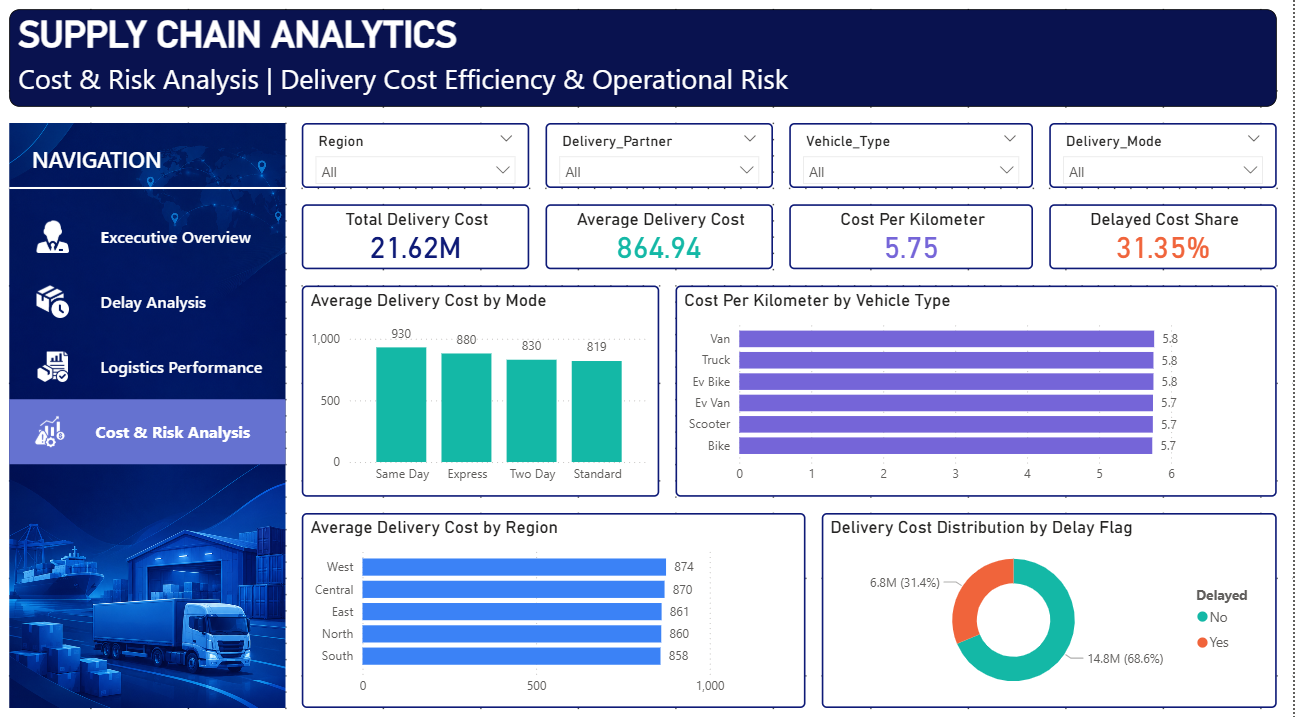

What the dashboard file says about the page in this screenshot:
{"tool":"powerbi","page":{"name":"04. Cost & Risk Analysis","canvas":[1280,720],"ordinal":3},"visuals":[{"type":"textbox","title":"SUPPLY CHAIN ANALYTICS","box":[16,16,1248,96],"z":0},{"type":"image","box":[16,128,272,576],"z":0,"group":"g5"},{"type":"actionButton","title":"Button Excecutive","box":[16,208,272,48],"z":0,"group":"g1"},{"type":"actionButton","title":"Button Delay","box":[16,272,272,48],"z":0,"group":"g2"},{"type":"actionButton","title":"Button Logistics","box":[16,336,272,48],"z":0,"group":"g3"},{"type":"actionButton","title":"Button Cost & Risk","box":[16,400,272,64],"z":0,"group":"g4"},{"type":"slicer","title":"Slicer Region","fields":{"Values":["Cleaned_Delivery_Data.Region"]},"box":[304,128,224,64],"z":1000},{"type":"textbox","box":[33,144,153,48],"z":1000,"group":"g5"},{"type":"image","box":[33,224,51,32],"z":1000,"group":"g1"},{"type":"image","box":[33,288,51,32],"z":1000,"group":"g2"},{"type":"image","box":[33,352,51,32],"z":1000,"group":"g3"},{"type":"image","box":[32,416,48,32],"z":1000,"group":"g4"},{"type":"slicer","title":"Slicer Delivery Partner","fields":{"Values":["Cleaned_Delivery_Data.Delivery_Partner"]},"box":[544,128,224,64],"z":2000},{"type":"shape","box":[16,176,272,32],"z":2000,"group":"g5"},{"type":"textbox","box":[101,224,187,32],"z":2000,"group":"g1"},{"type":"textbox","box":[101,288,187,32],"z":2000,"group":"g2"},{"type":"textbox","box":[101,352,187,32],"z":2000,"group":"g3"},{"type":"textbox","box":[96,416,192,48],"z":2000,"group":"g4"},{"type":"slicer","title":"Slicer Vehicle Type","fields":{"Values":["Cleaned_Delivery_Data.Vehicle_Type"]},"box":[784,128,240,64],"z":3000},{"type":"group","id":"g1","title":"Excecutive Group","box":[16,208,272,48],"z":3000,"group":"g5"},{"type":"slicer","title":"Slicer Delivery Mode","fields":{"Values":["Cleaned_Delivery_Data.Delivery_Mode"]},"box":[1040,128,224,64],"z":4000},{"type":"group","id":"g2","title":"Delay Group","box":[16,272,272,48],"z":4000,"group":"g5"},{"type":"card","title":"Total Delivery Cost","fields":{"Values":["Measure.Total_Delivery_Cost"]},"box":[304,208,224,64],"z":5000},{"type":"group","id":"g3","title":"Logistics Group","box":[16,336,272,48],"z":5000,"group":"g5"},{"type":"card","title":"Average Delivery Cost","fields":{"Values":["Measure.Average_Delivery_Cost"]},"box":[544,208,224,64],"z":6000},{"type":"group","id":"g4","title":"Cost & Risk Group","box":[16,400,272,64],"z":6000,"group":"g5"},{"type":"card","title":"Cost Per Kilometer","fields":{"Values":["Measure.Cost_Per_Kilometer"]},"box":[784,208,240,64],"z":7000},{"type":"card","title":"Delayed Cost Share","fields":{"Values":["Measure.Delayed_Delivery_Cost_Share_%"]},"box":[1040,208,224,64],"z":8000},{"type":"clusteredColumnChart","title":"Average Delivery Cost by Mode","fields":{"Category":["Cleaned_Delivery_Data.Delivery_Mode"],"Y":["Measure.Average_Delivery_Cost"]},"box":[304,288,352,208],"z":9000},{"type":"clusteredBarChart","title":"Cost Per Kilometer by Vehicle Type","fields":{"Category":["Cleaned_Delivery_Data.Vehicle_Type"],"Y":["Measure.Cost_Per_Kilometer"]},"box":[672,288,592,208],"z":10000},{"type":"clusteredBarChart","title":"Average Delivery Cost by Region","fields":{"Category":["Cleaned_Delivery_Data.Region"],"Y":["Measure.Average_Delivery_Cost"]},"box":[304,512,496,192],"z":11000},{"type":"donutChart","title":"Delivery Cost Distribution by Delay Flag","fields":{"Y":["Measure.Total_Delivery_Cost"],"Category":["Cleaned_Delivery_Data.Delayed"]},"box":[816,512,448,192],"z":12000},{"type":"group","id":"g5","title":"Navigation Bar","box":[16,128,272,576],"z":13000}]}

Visuals, with their boxes in screenshot pixels (x1, y1, x2, y2), scaled from the page's 1280x720 canvas onto the 1295x717 screenshot:
"SUPPLY CHAIN ANALYTICS" textbox: rect(16, 16, 1279, 112)
image: rect(16, 127, 291, 701)
"Button Excecutive" actionButton: rect(16, 207, 291, 255)
"Button Delay" actionButton: rect(16, 271, 291, 319)
"Button Logistics" actionButton: rect(16, 335, 291, 382)
"Button Cost & Risk" actionButton: rect(16, 398, 291, 462)
"Slicer Region" slicer: rect(308, 127, 534, 191)
textbox: rect(33, 143, 188, 191)
image: rect(33, 223, 85, 255)
image: rect(33, 287, 85, 319)
image: rect(33, 351, 85, 382)
image: rect(32, 414, 81, 446)
"Slicer Delivery Partner" slicer: rect(550, 127, 777, 191)
shape: rect(16, 175, 291, 207)
textbox: rect(102, 223, 291, 255)
textbox: rect(102, 287, 291, 319)
textbox: rect(102, 351, 291, 382)
textbox: rect(97, 414, 291, 462)
"Slicer Vehicle Type" slicer: rect(793, 127, 1036, 191)
"Excecutive Group" group: rect(16, 207, 291, 255)
"Slicer Delivery Mode" slicer: rect(1052, 127, 1279, 191)
"Delay Group" group: rect(16, 271, 291, 319)
"Total Delivery Cost" card: rect(308, 207, 534, 271)
"Logistics Group" group: rect(16, 335, 291, 382)
"Average Delivery Cost" card: rect(550, 207, 777, 271)
"Cost & Risk Group" group: rect(16, 398, 291, 462)
"Cost Per Kilometer" card: rect(793, 207, 1036, 271)
"Delayed Cost Share" card: rect(1052, 207, 1279, 271)
"Average Delivery Cost by Mode" clusteredColumnChart: rect(308, 287, 664, 494)
"Cost Per Kilometer by Vehicle Type" clusteredBarChart: rect(680, 287, 1279, 494)
"Average Delivery Cost by Region" clusteredBarChart: rect(308, 510, 809, 701)
"Delivery Cost Distribution by Delay Flag" donutChart: rect(826, 510, 1279, 701)
"Navigation Bar" group: rect(16, 127, 291, 701)
